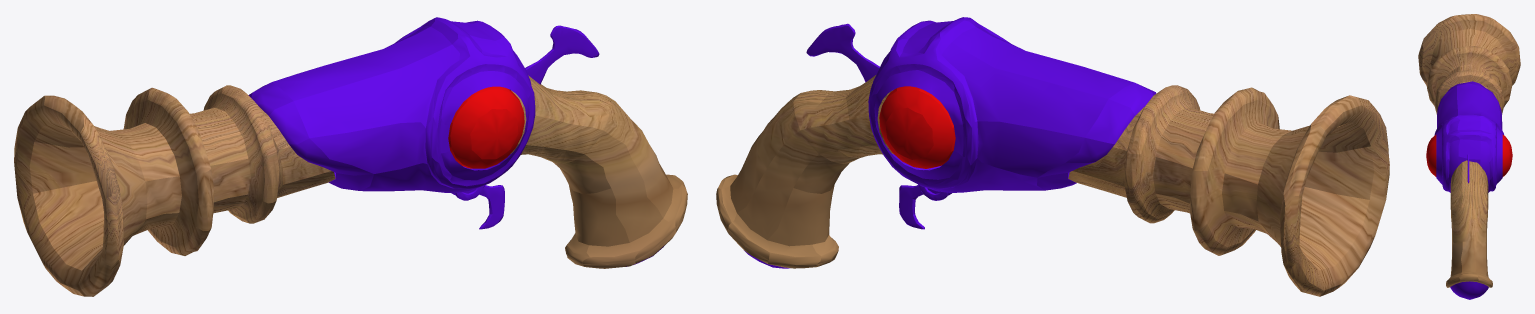
Rendered from Rifle1.fbx.
3 views of the same model, side by side, from view 1: azimuth 30°, elevation 25°; view 2: azimuth 150°, elevation 25°; view 3: azimuth 270°, elevation 25° (orthographic). The views are drawn at different scales.
Parts seen in each view (by area): view 1: Cylinder004.004; view 2: Cylinder004.004; view 3: Cylinder004.004.
Boxes of the visible parts, left/top/right/bottom form: Cylinder004.004: left=14, top=17, right=687, bottom=296; Cylinder004.004: left=716, top=17, right=1389, bottom=296; Cylinder004.004: left=1418, top=14, right=1520, bottom=299.
Size of the model in its own units: 1805 by 822 by 516.
3 materials, 1 textured.
